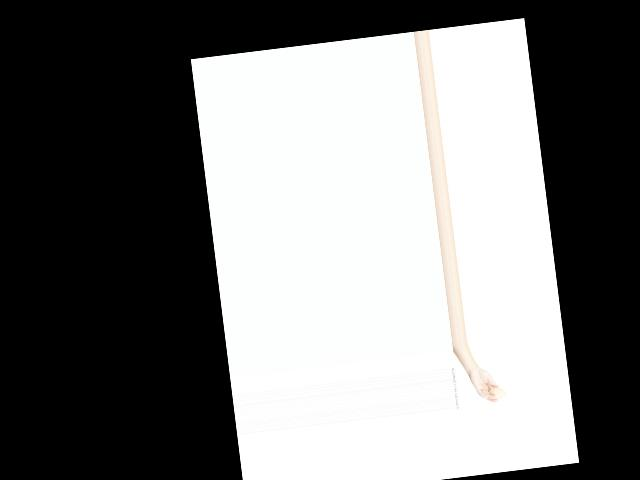egg: (487, 385, 506, 400)
